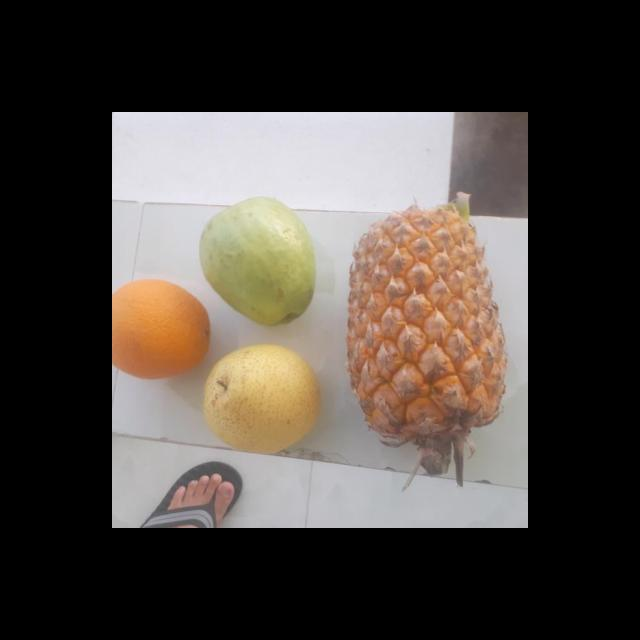guava: (200, 196, 320, 324)
orange: (112, 276, 216, 383)
pear: (200, 345, 322, 456)
pineapple: (354, 201, 504, 440)
